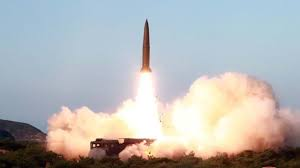ten_lua: (138, 14, 157, 81)
